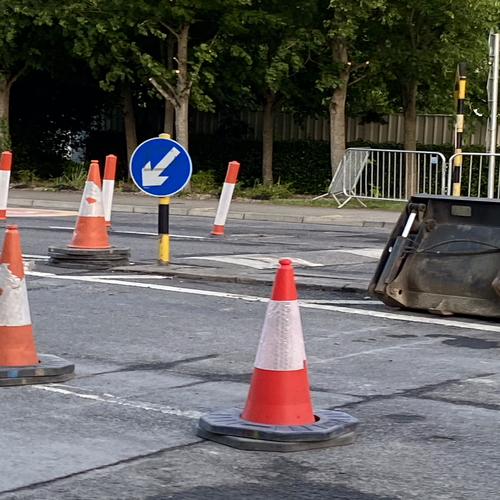Keep Left: (130, 136, 193, 198)
